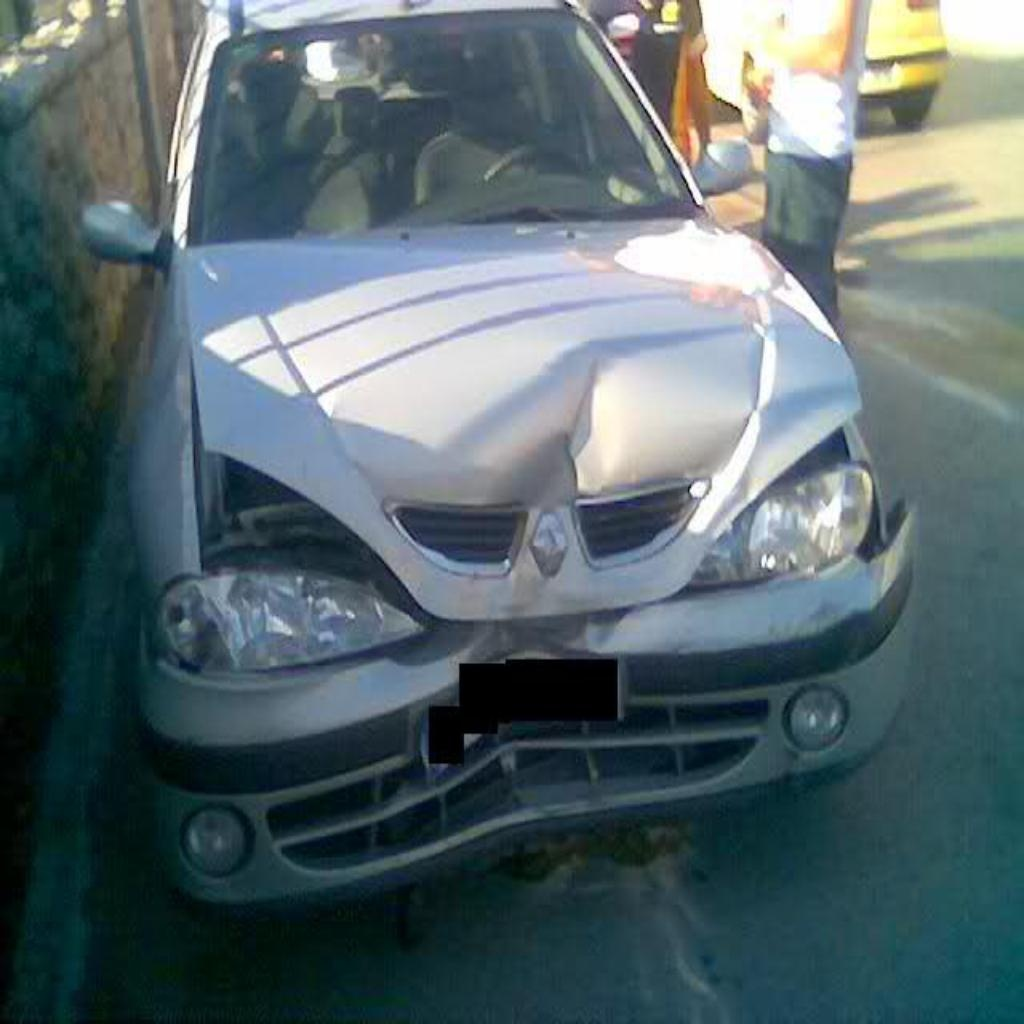Dent: (201, 345, 829, 555)
